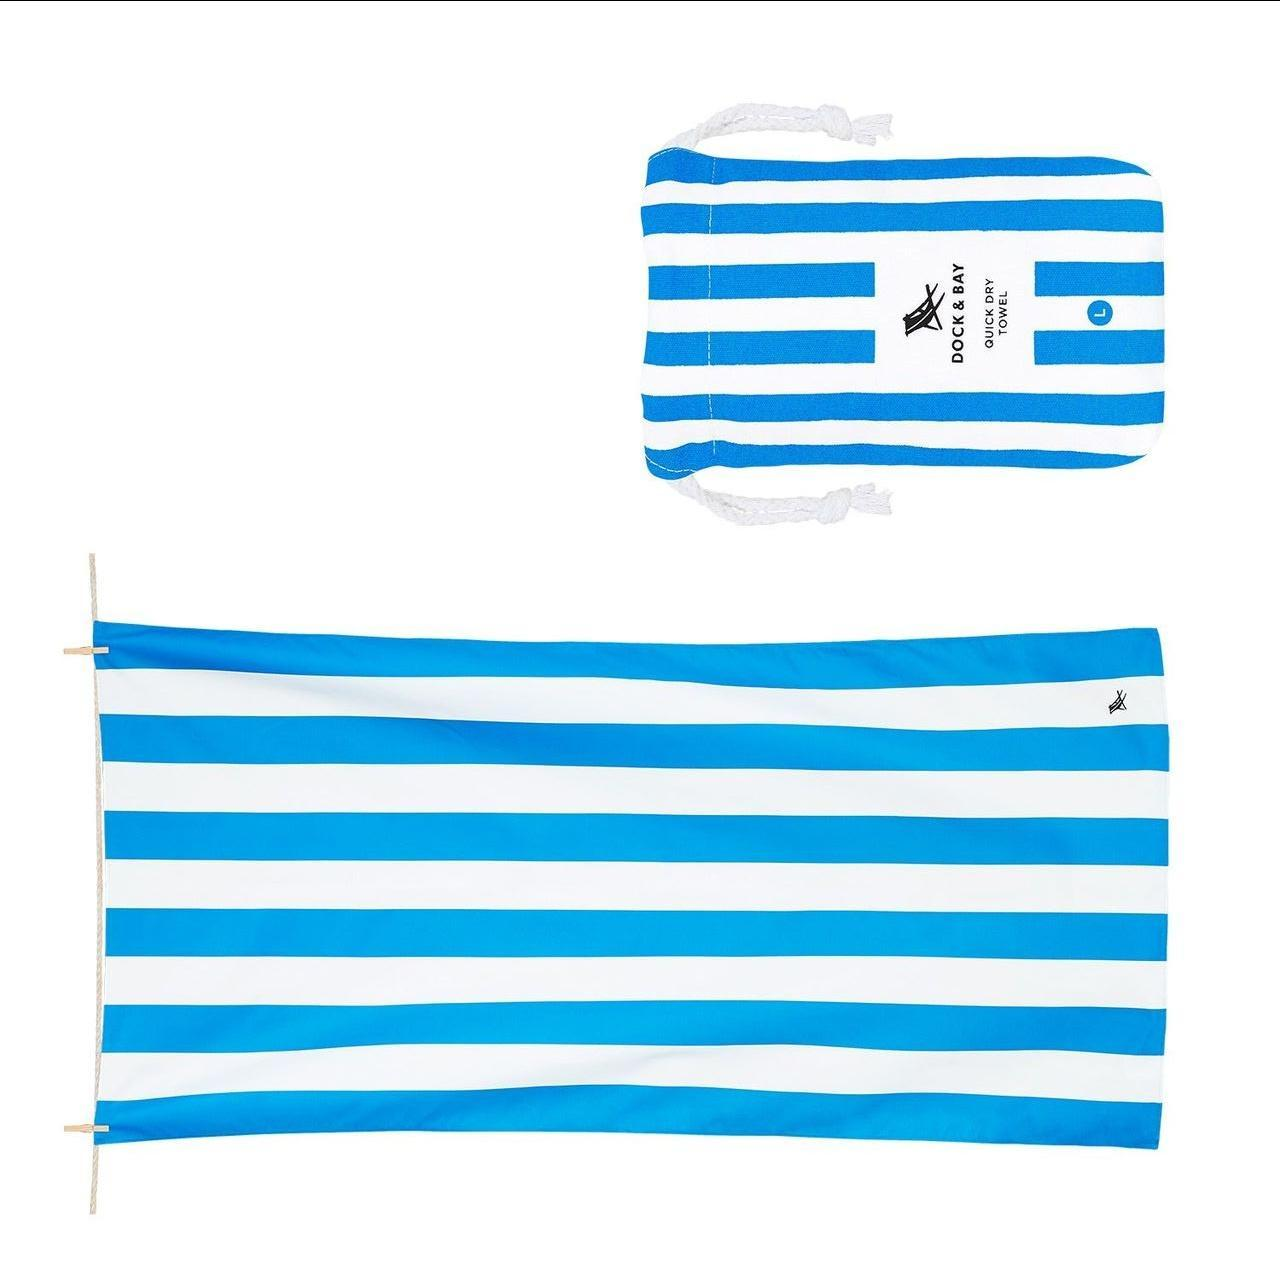towel: (87, 593, 1166, 1184)
